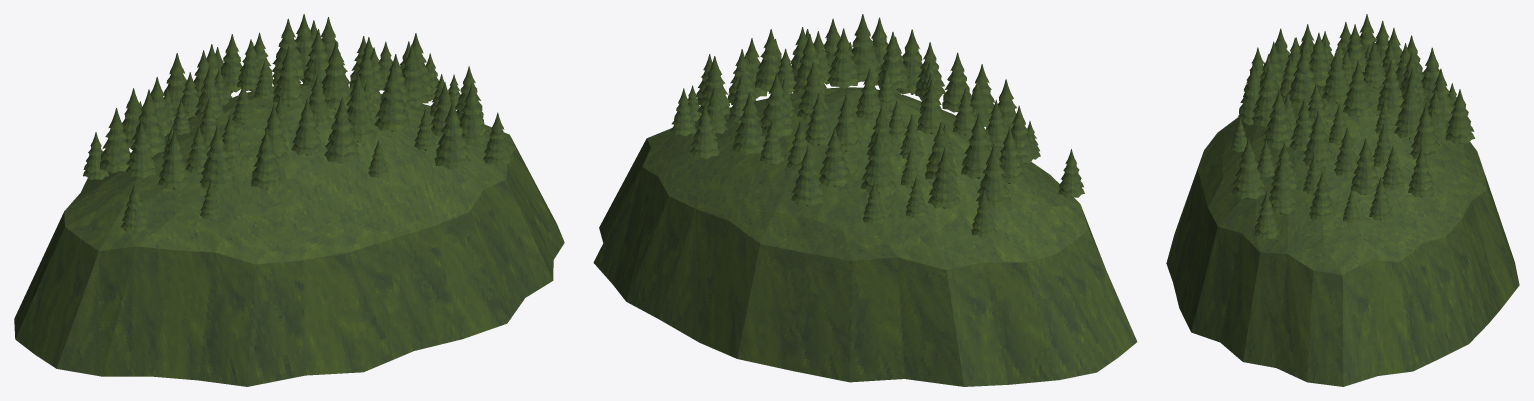
File: forested_hills.glb
The picture shows the model from 3 angles, left to right: view 1: azimuth 30°, elevation 25°; view 2: azimuth 150°, elevation 25°; view 3: azimuth 270°, elevation 25°; orthographic projection. The views are drawn at different scales.
Parts seen in each view (by area): view 1: Hill 01 - editable tree scatter; view 2: Hill 01 - editable tree scatter; view 3: Hill 01 - editable tree scatter.
Part boxes in pixels (bbox=[...]): Hill 01 - editable tree scatter: bbox=[14, 14, 564, 386]; Hill 01 - editable tree scatter: bbox=[593, 14, 1137, 386]; Hill 01 - editable tree scatter: bbox=[1166, 14, 1519, 386].
Size of the model in its own units: 20.02 by 9.65 by 13.03.
Materials: 1 (1 with a texture image).
